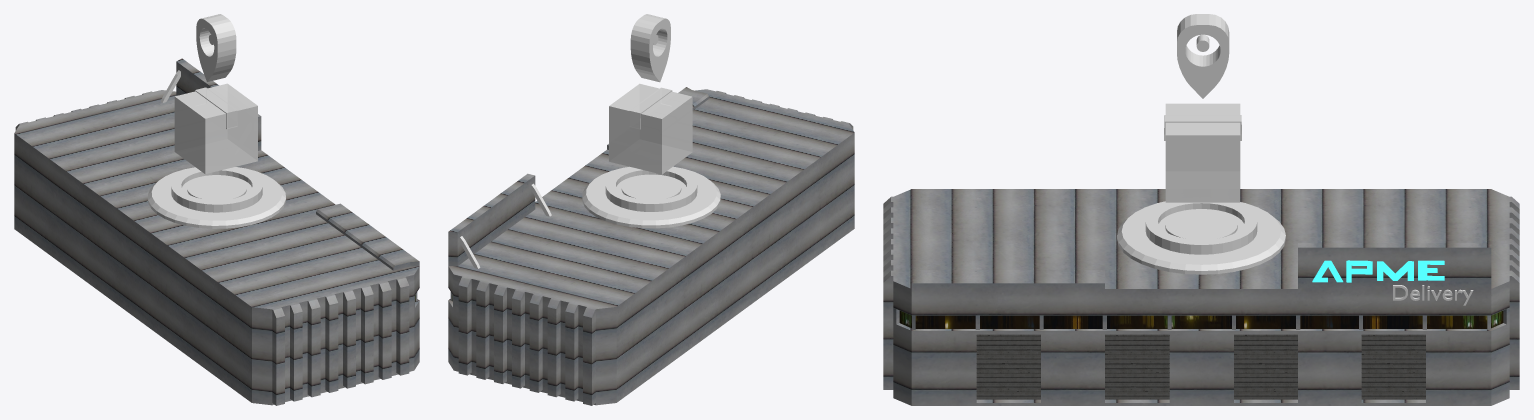
Rendered from Depot_Building.fbx.
The picture shows the model from 3 angles, left to right: view 1: azimuth 30°, elevation 25°; view 2: azimuth 150°, elevation 25°; view 3: azimuth 270°, elevation 25°; orthographic projection. The views are drawn at different scales.
Visible parts, largest first — view 1: Cube.034, Cylinder.017, Cube.038, Cube.039; view 2: Cube.034, Cylinder.017, Cube.038, Cube.039; view 3: Cube.034, Cube.051, Cylinder.017, Cube.052, Cube.038, Cube.039, Plane.001, Text.002.
Boxes of the visible parts, x1,y1,x2,y2 form: Cube.034: (14, 58, 419, 405); Cylinder.017: (148, 167, 285, 228); Cube.038: (174, 83, 257, 174); Cube.039: (196, 14, 236, 81); Cube.034: (448, 87, 854, 405); Cylinder.017: (582, 166, 720, 228); Cube.038: (609, 83, 692, 174); Cube.039: (630, 14, 670, 82); Cube.034: (883, 189, 1519, 405); Cube.051: (976, 334, 1425, 399); Cylinder.017: (1117, 201, 1285, 274); Cube.052: (899, 311, 1503, 328); Cube.038: (1164, 103, 1241, 202); Cube.039: (1177, 14, 1229, 98); Plane.001: (1312, 260, 1444, 282); Text.002: (1393, 285, 1473, 305).
Bounding box in the file's own units: 3372 × 5216 × 8937.
Materials: 7 (3 with a texture image).
